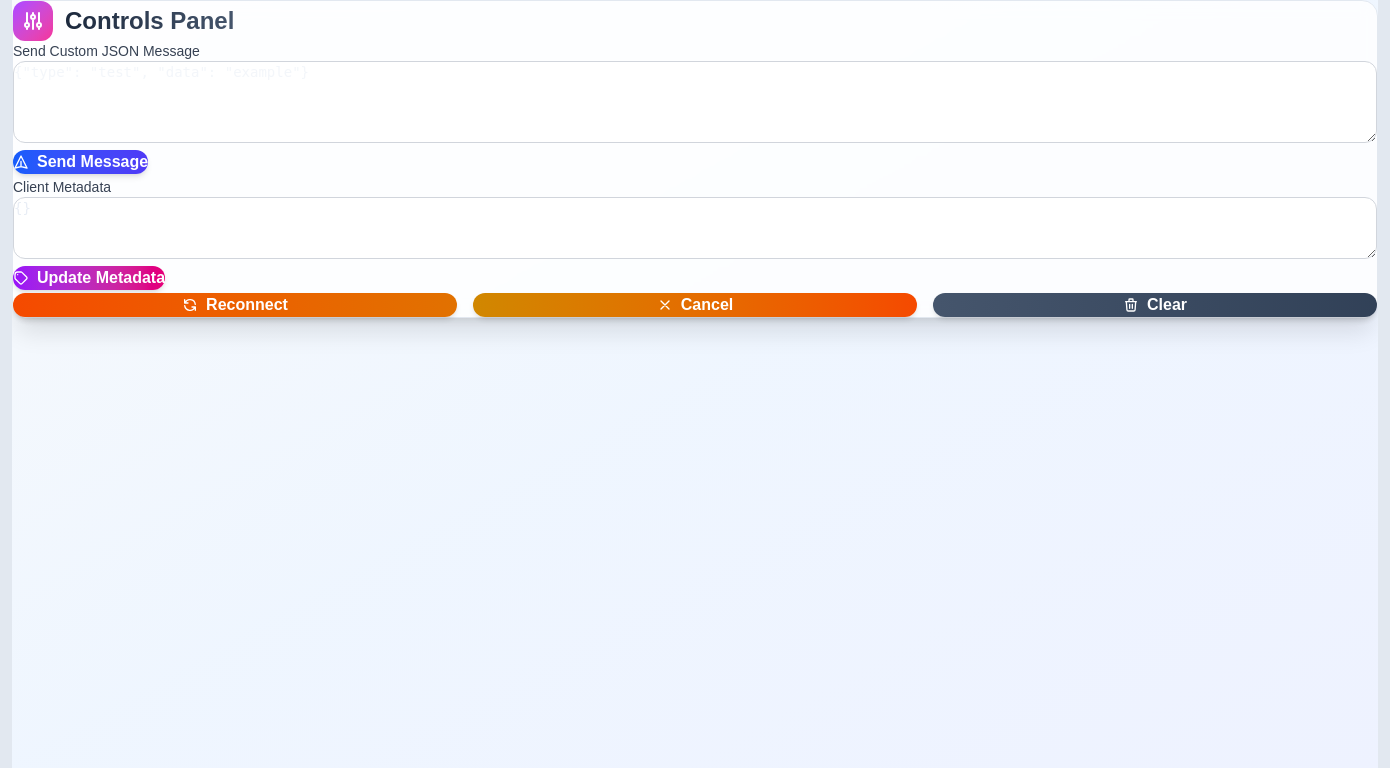
Test: ControlsPanel › Send Custom Message › should show error for empty message
Click the button "Send Message".
click(81, 162)  # box [13, 150, 148, 174]
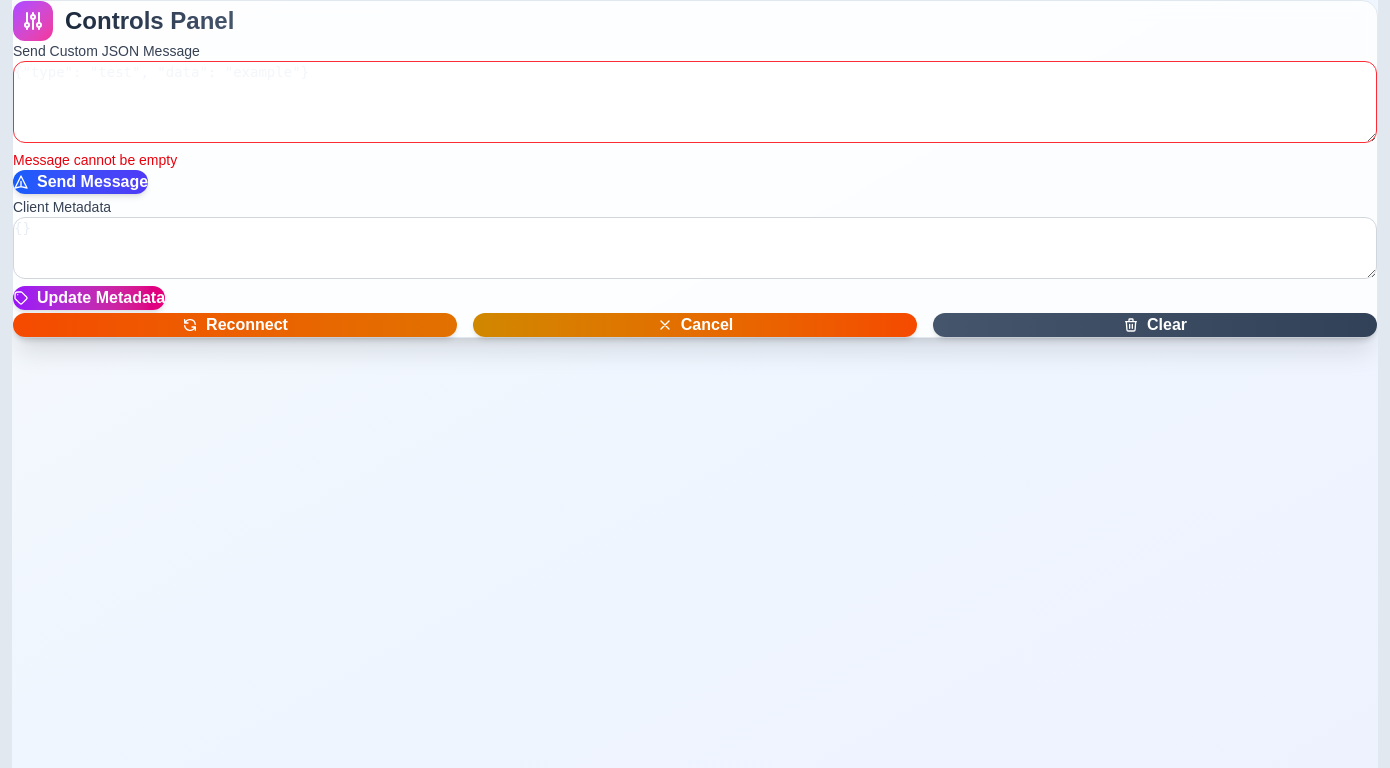
Expected: the text "Message cannot be empty" is shown, [13, 152, 177, 168]
